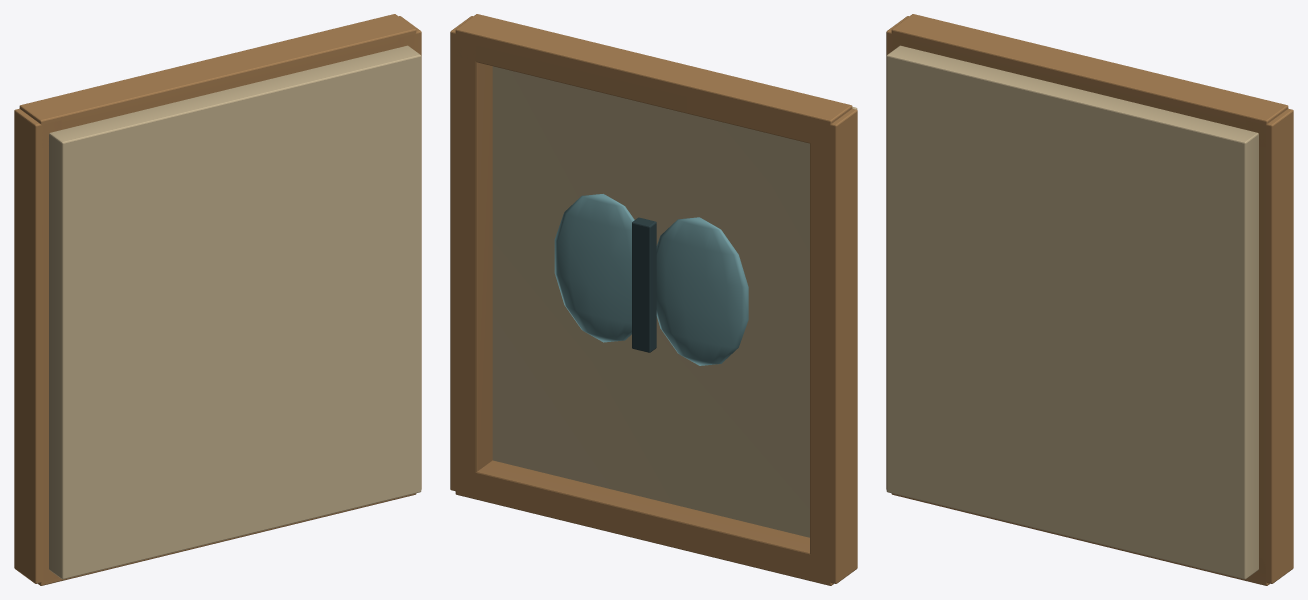
File: museum_frame.glb
3 renders of one model, left to right at view 1: azimuth 30°, elevation 25°; view 2: azimuth 150°, elevation 25°; view 3: azimuth 330°, elevation 25°, orthographic.
Size of the model in its own units: 0.925 by 1.07 by 0.155.
